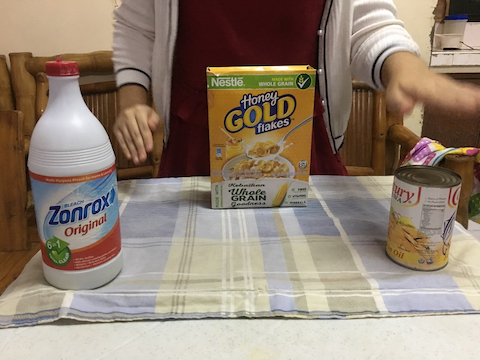bottle: (27, 57, 129, 290)
box: (203, 60, 322, 211)
can: (381, 163, 468, 273)
